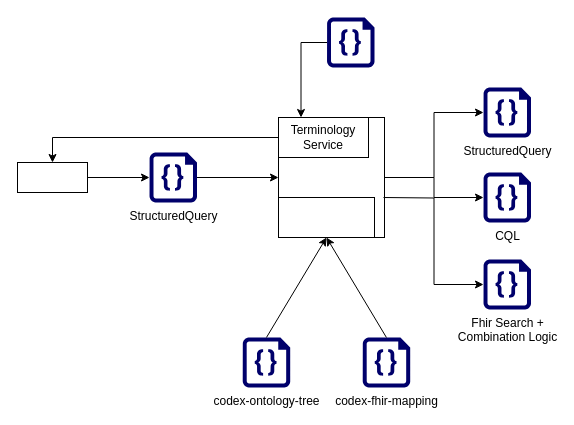
This 574x425 diagram has some shape labels left out. Each missing label, with the box of its shape:
Backend: (278, 116, 384, 238)
GUI: (16, 162, 88, 192)
Query Translation: (278, 196, 374, 238)
ui-ontology-tree: (326, 17, 374, 67)
